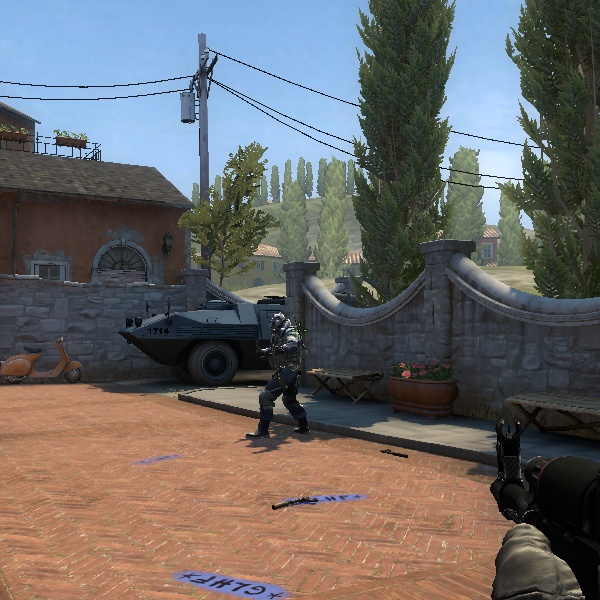ct_body: (247, 314, 319, 442)
ct_head: (264, 314, 295, 345)
